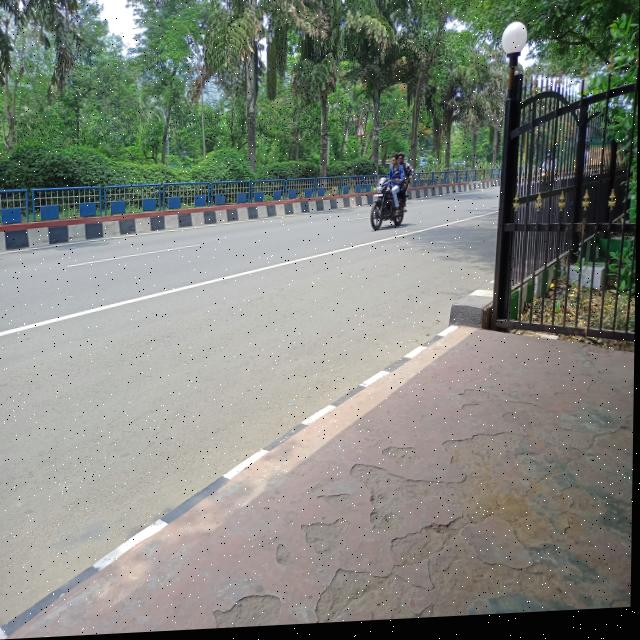bike: (362, 176, 415, 235)
